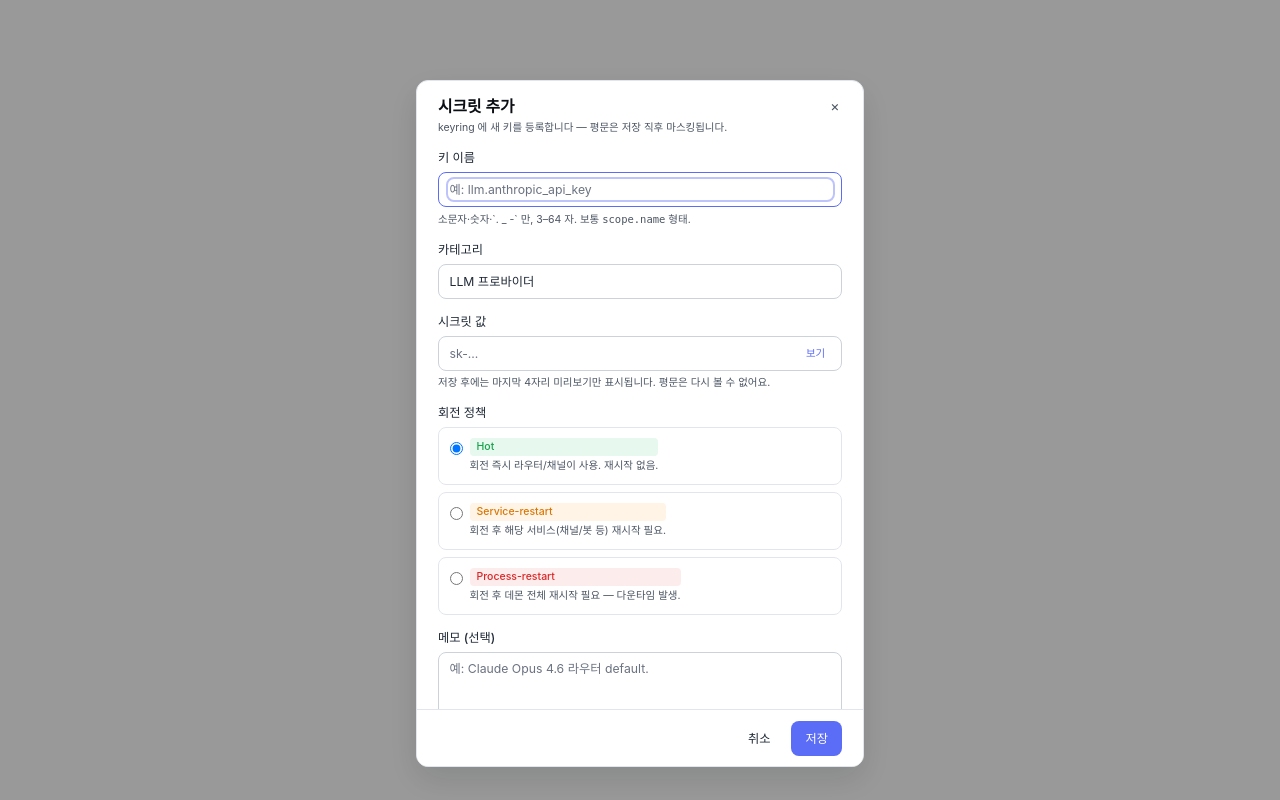
AddSecretModal › 기존 키 이름과 중복이면 검증 실패
The width and height of the screenshot is (1280, 800).
Type "llm.anthropic_api_key" into the field with test id "add-secret-key-name" at (640, 190), box x1=450 y1=181 x2=830 y2=198
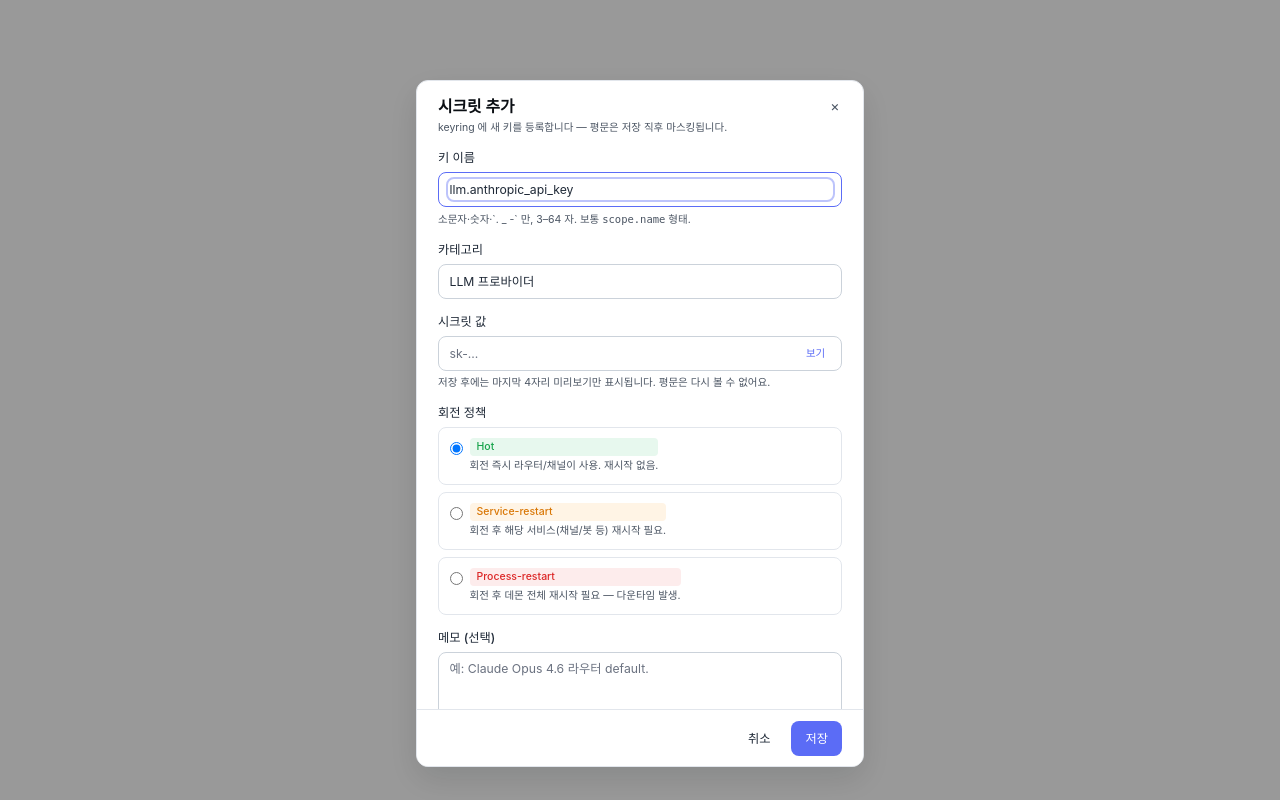
Type "sk-test" into the password field with test id "add-secret-value" at (622, 353), box x1=450 y1=344 x2=794 y2=362
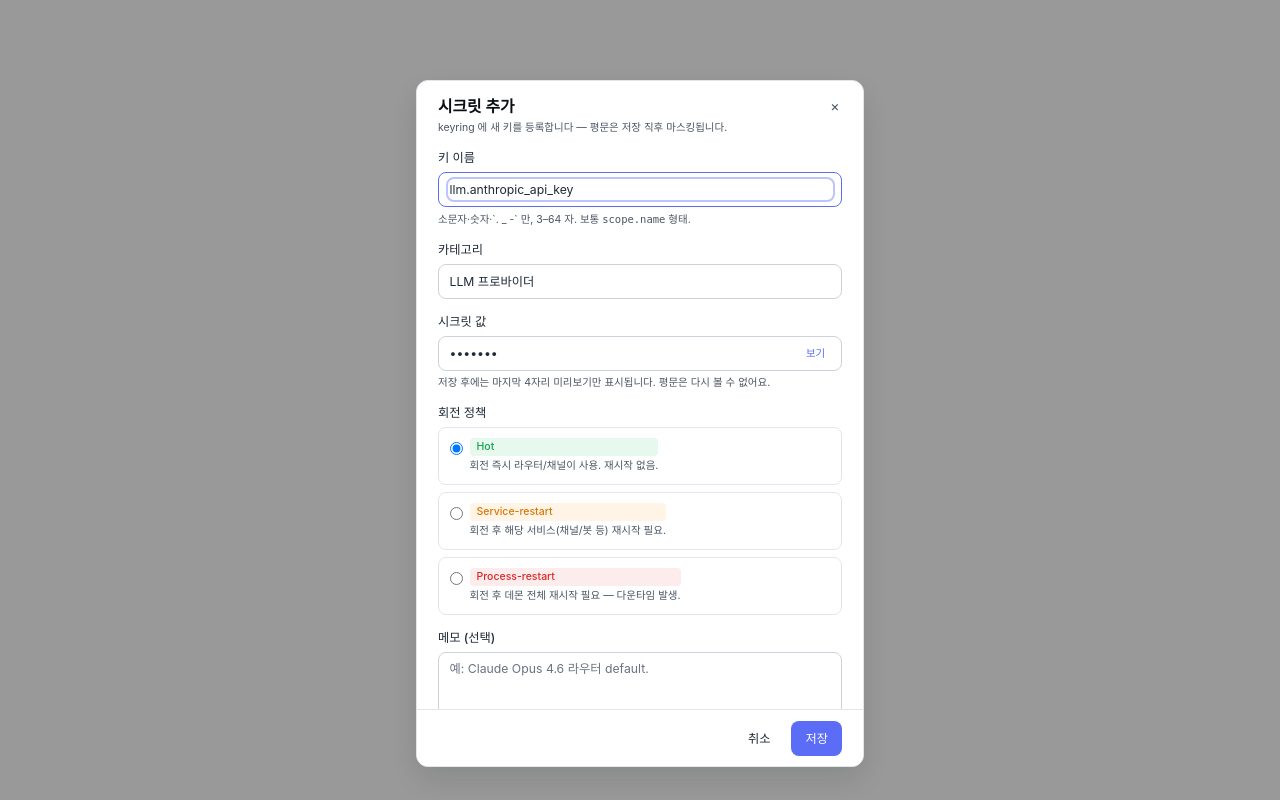
Click the button with test id "add-secret-submit" at (817, 738), box x1=792 y1=721 x2=842 y2=756
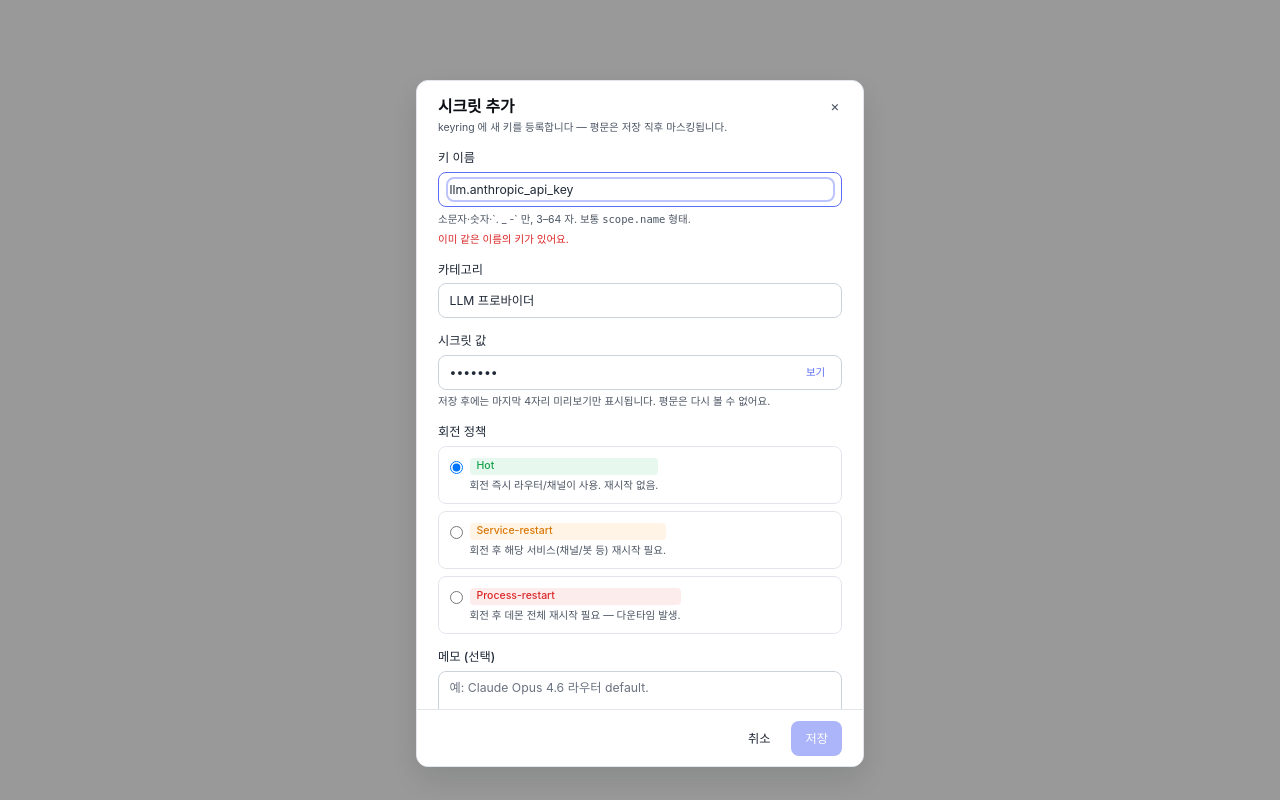
Check: the message with test id "add-secret-key-name-error" shows "이미", box x1=438 y1=232 x2=569 y2=246
